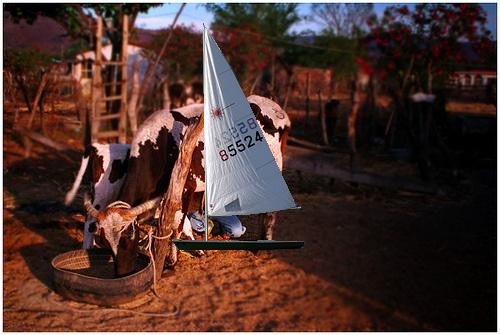tampered: (173, 24, 305, 250)
